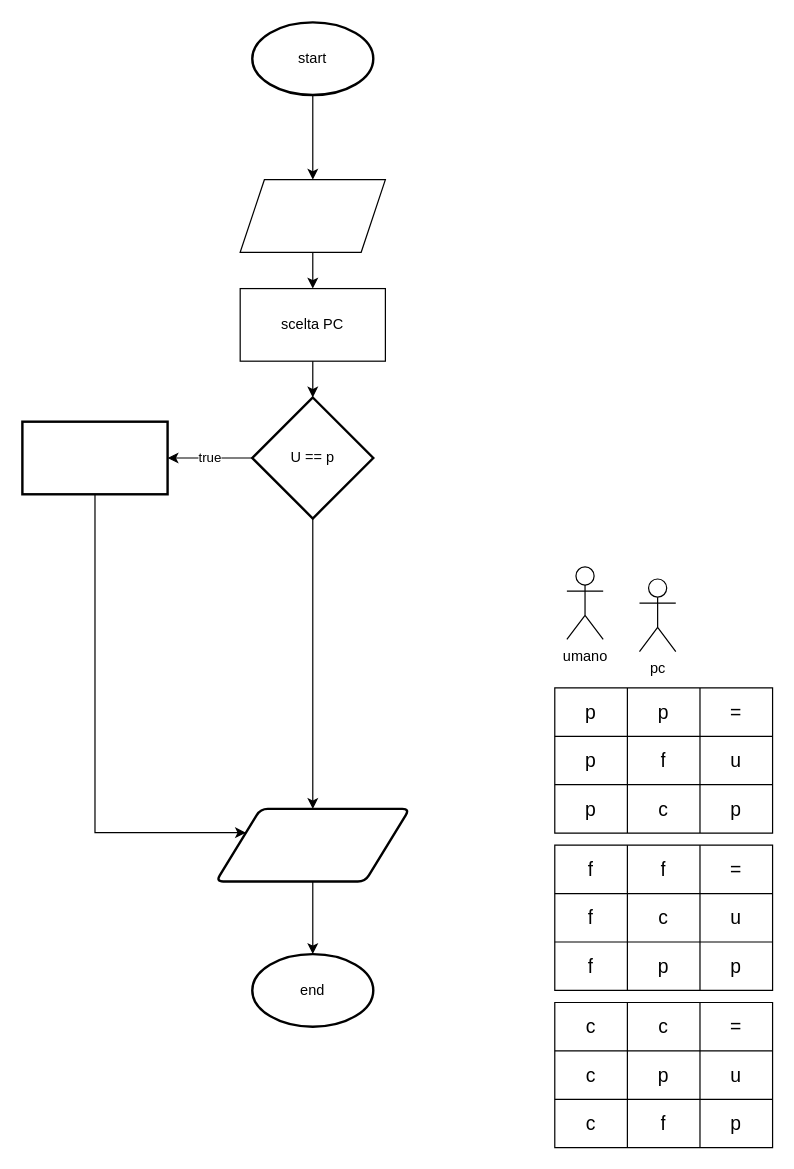
Some shapes in this 794 by 1169 pixel diagram are drawn without their labels. The box of each missing label's shape, as (x1, y1, x2, y2) in pixels:
output: risposta: (214, 807, 410, 882)
risposta = 'pareggio': (21, 420, 168, 495)
scelta utente: (239, 178, 385, 252)
